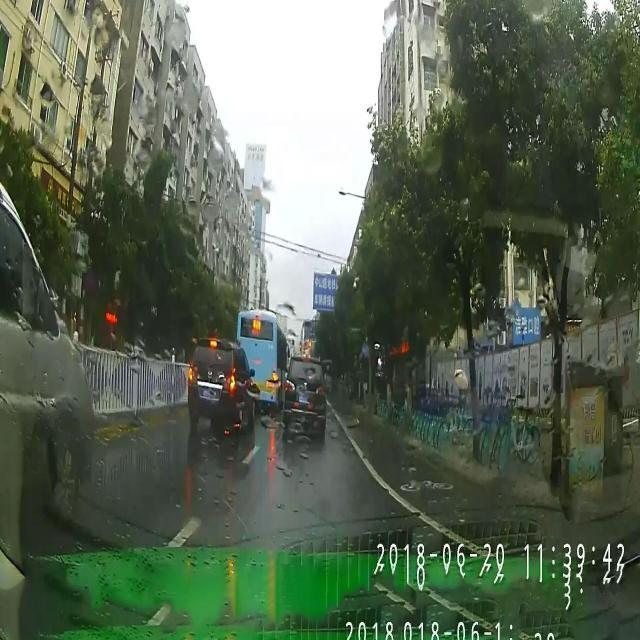car: (1, 182, 92, 528), (186, 339, 256, 442), (284, 352, 326, 448)
